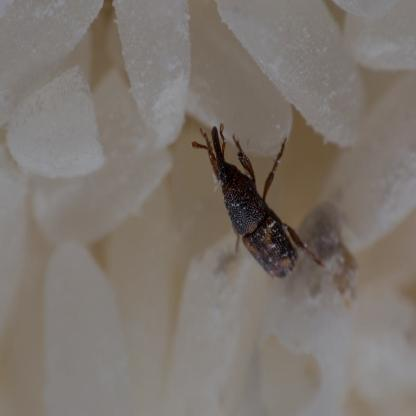rice-bug: (204, 119, 305, 282)
